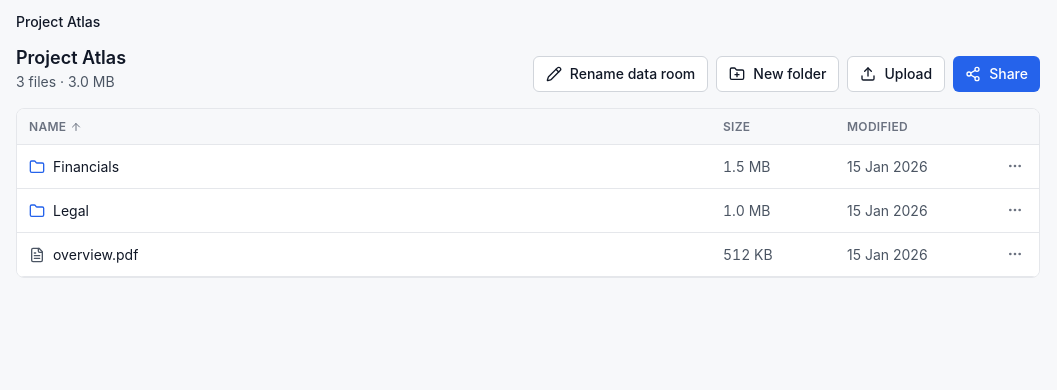
inline rename › keeps the input open with an inline error on NAME_CONFLICT
The width and height of the screenshot is (1057, 390).
Expected: the button "Legal" is shown, [29, 200, 89, 220]
Click the button named "Actions for Legal": (1015, 210) [1003, 198, 1027, 222]
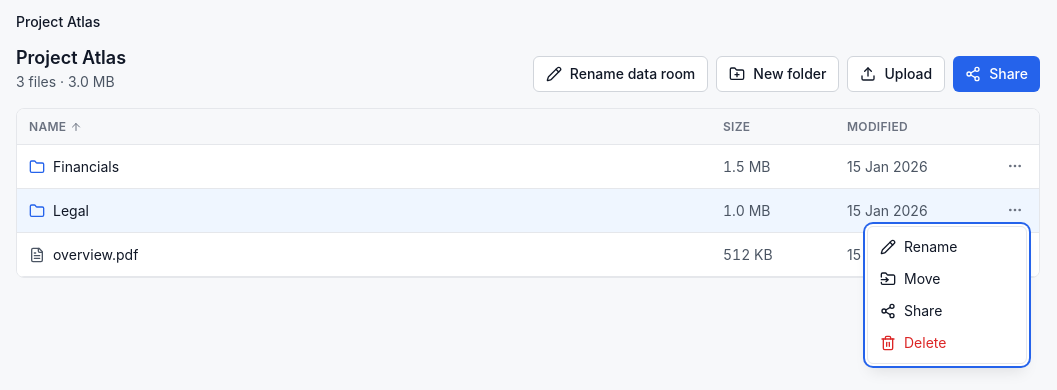
Click the menu item "Rename": (919, 246) [880, 238, 958, 255]
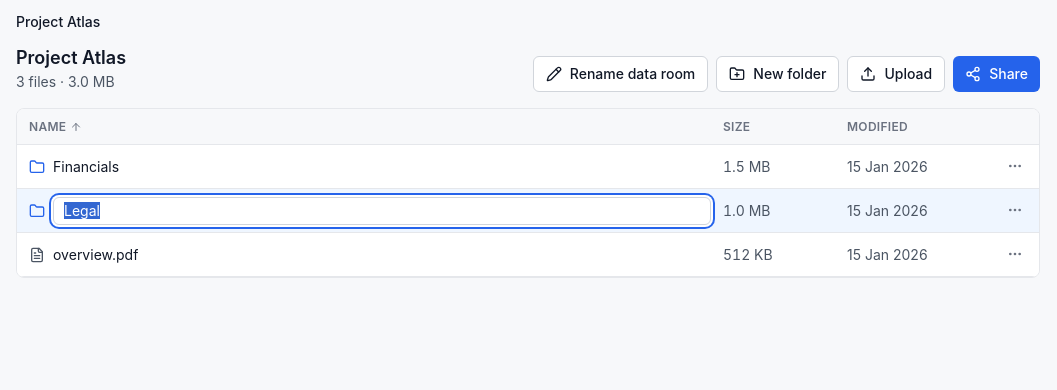
Replace the text in the field named "Rename Legal" with "Financials": (382, 210) [53, 196, 711, 224]
Then press Enter
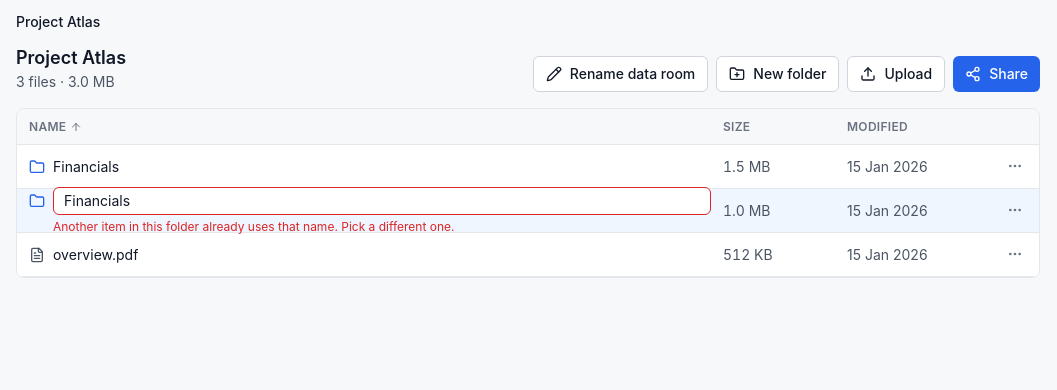
Now the message shows "Another item in this folder already uses that name", box [53, 218, 454, 234]
